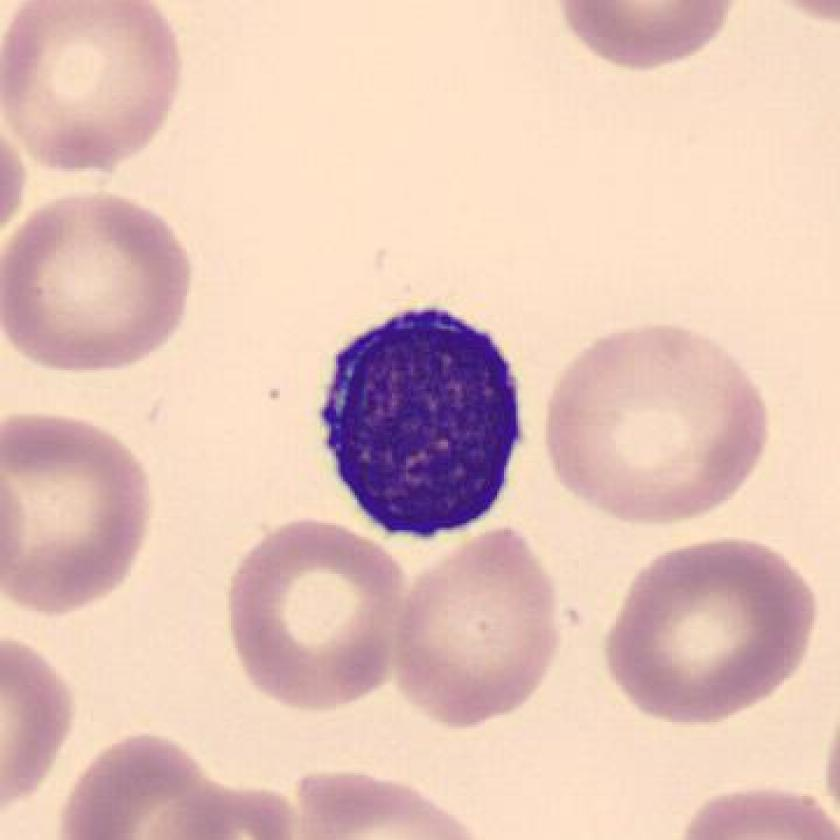lymphocyte: (307, 288, 547, 559)
